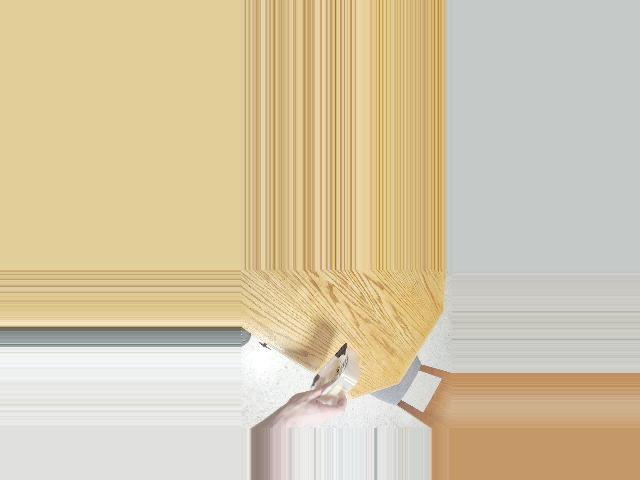cheese: (302, 350, 373, 407)
